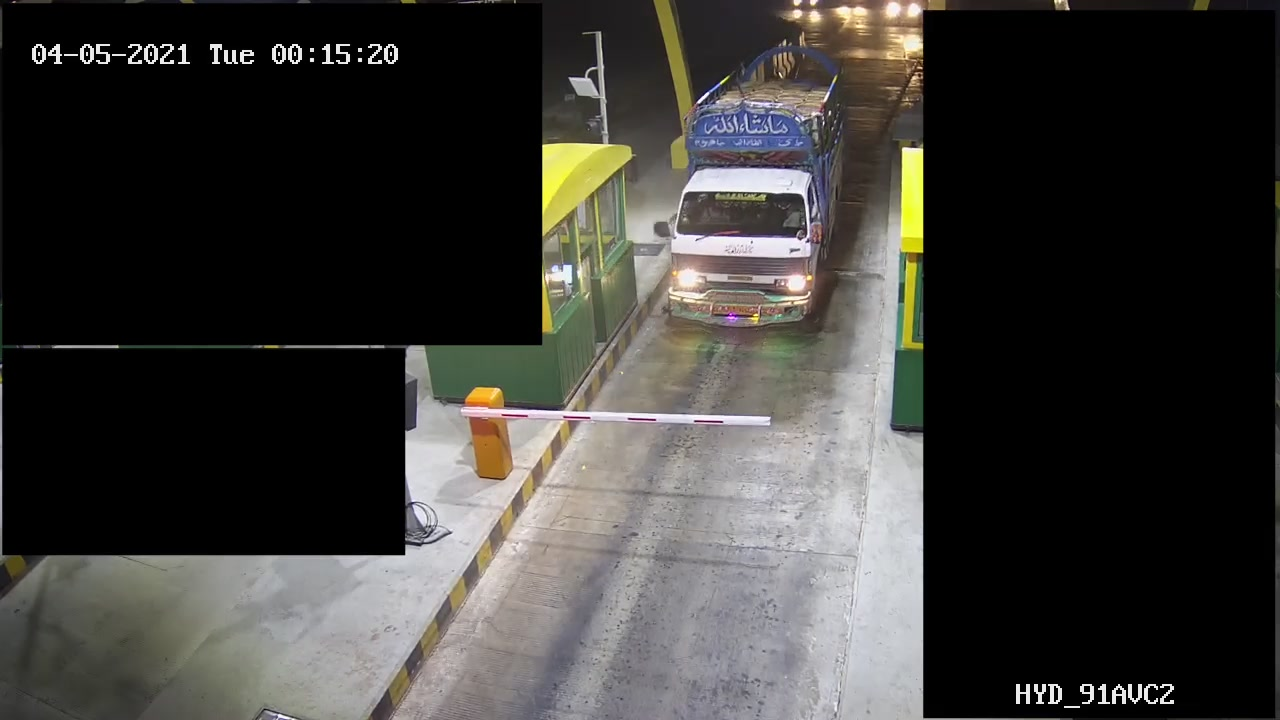F5: (648, 48, 851, 339)
